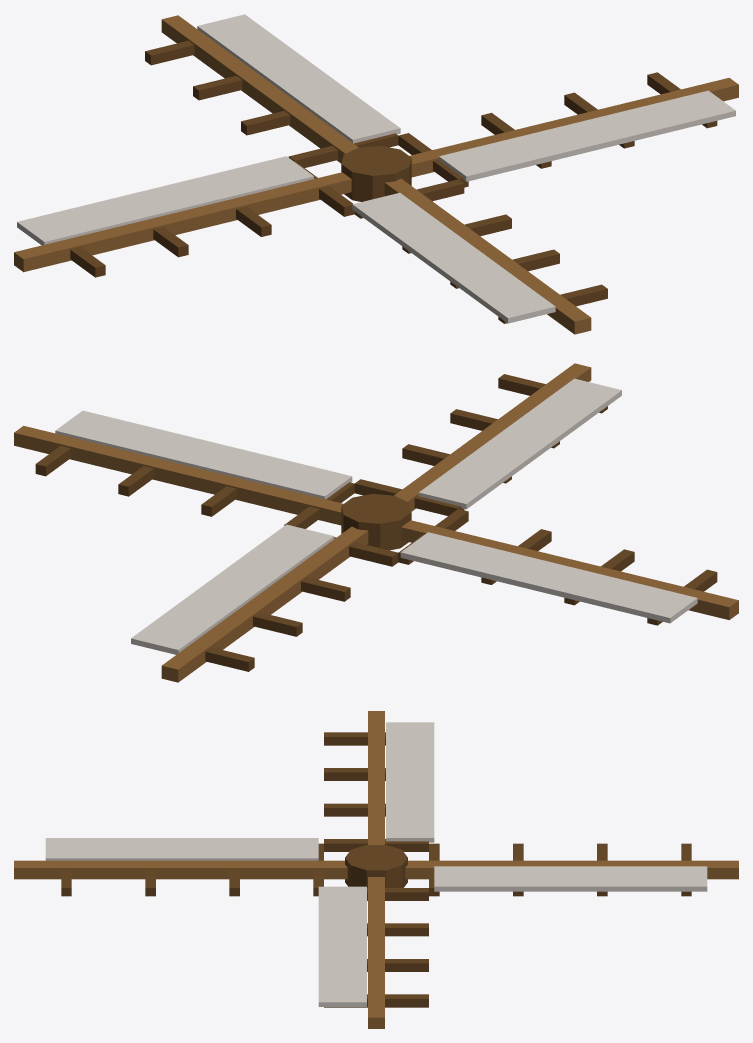
File: windmill_blades.glb
3 renders of one model, top to bottom at view 1: azimuth 30°, elevation 25°; view 2: azimuth 150°, elevation 25°; view 3: azimuth 270°, elevation 25°, orthographic. The views are drawn at different scales.
Parts seen in each view (by area): view 1: WindmillBlades; view 2: WindmillBlades; view 3: WindmillBlades.
Part boxes in pixels (x1,y1,x2,y2): WindmillBlades: (14, 14, 738, 334); WindmillBlades: (14, 363, 738, 682); WindmillBlades: (14, 711, 738, 1028).
Size of the model in its own units: 6.9 by 0.2603 by 6.9.
